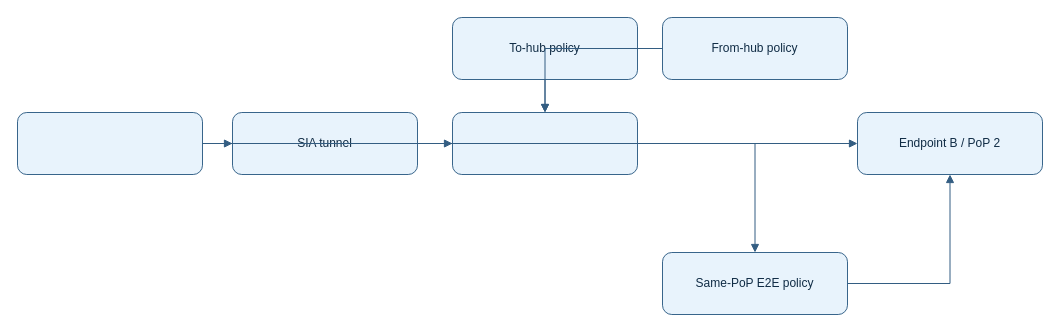
The diagram is 1060 pixels wide and 332 high, and some of its shapes have lost their labels. Each missing label, with the box of its shape:
Endpoint A / PoP 1: (16, 112, 202, 174)
SPA hub / BGP: (452, 112, 638, 174)
